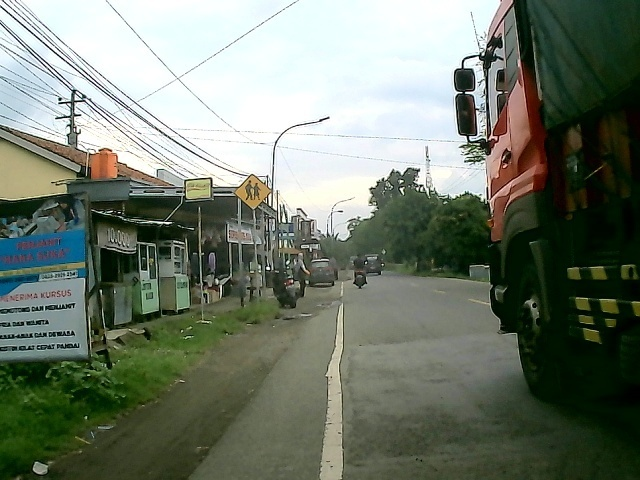Peringatan anak menyeberang: (231, 172, 276, 212)
